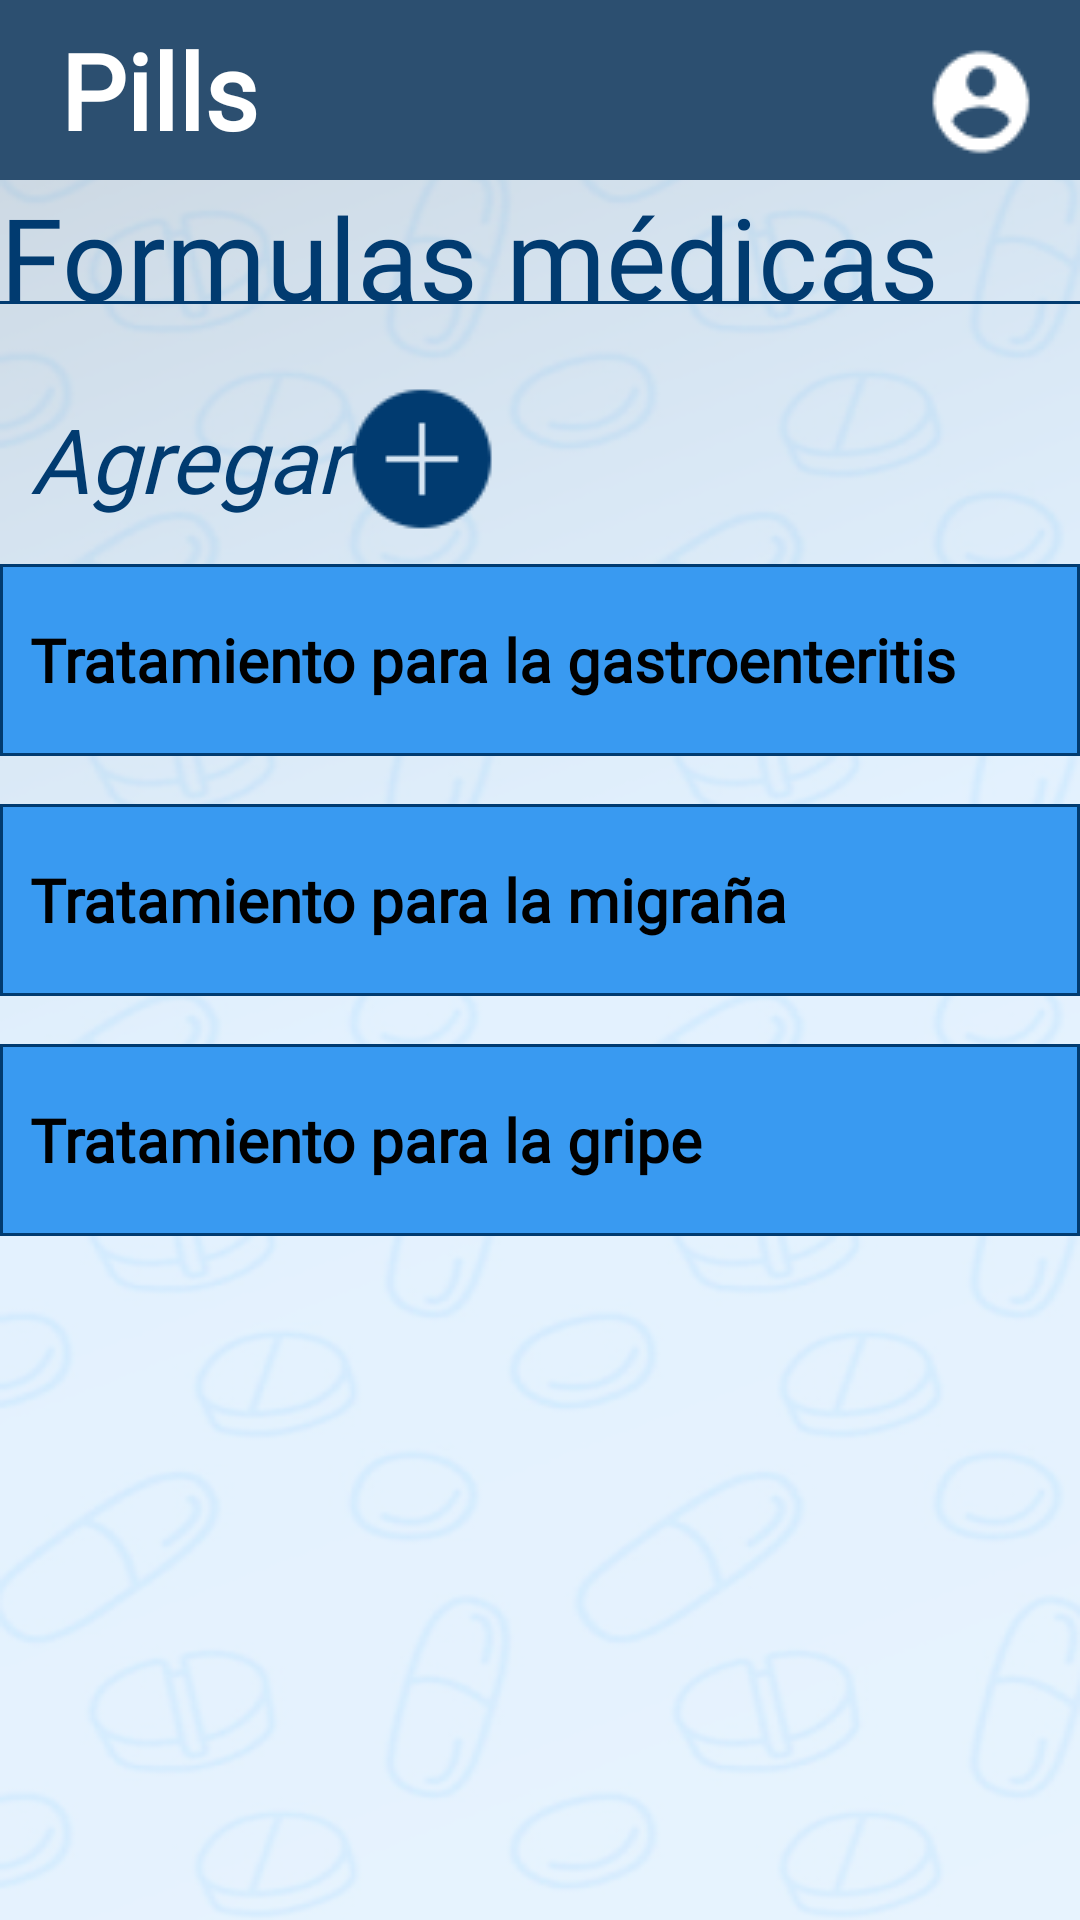

Where icons sit on this 1080×1920 app screen, as {"left": x1, "top": y1, "right": x2, "bottom": y2}:
person: {"left": 932, "top": 50, "right": 1030, "bottom": 154}
plus: {"left": 347, "top": 389, "right": 492, "bottom": 529}
